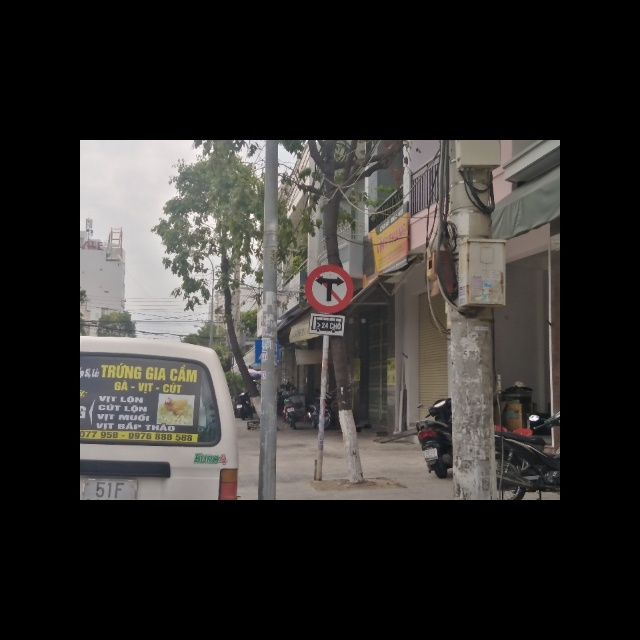Cấm rẽ trái và rẽ phải: (306, 264, 354, 312)
